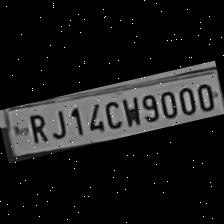0: (190, 78, 216, 114), (155, 86, 180, 120), (172, 83, 197, 117)
1: (62, 104, 86, 138)
4: (79, 100, 106, 135)
9: (136, 90, 162, 124)
C: (98, 97, 124, 132)
J: (44, 106, 70, 141)
R: (22, 109, 50, 146)
W: (118, 94, 142, 128)
